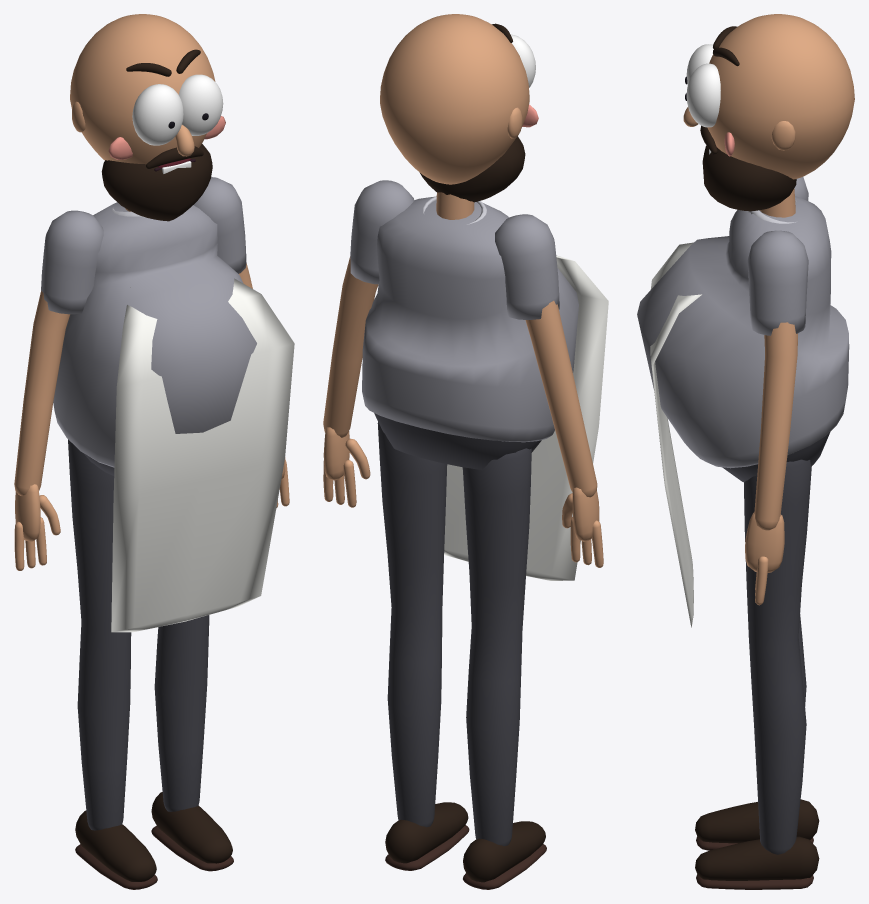
Rendered from momo.glb.
The picture shows the model from 3 angles, left to right: view 1: azimuth 30°, elevation 25°; view 2: azimuth 150°, elevation 25°; view 3: azimuth 270°, elevation 25°; orthographic projection.
Parts seen in each view (by area): view 1: Detail_apron, Torso_top, Leg_0_limb, Head_skull, Leg_1_limb, Arm_0_limb, Arm_0_sleeve, Head_beard, Leg_0_shoe, Leg_1_shoe, Arm_1_sleeve, Eye_0_white (+5 smaller); view 2: Torso_top, Leg_0_limb, Leg_1_limb, Head_skull, Detail_apron, Arm_0_limb, Arm_0_sleeve, Arm_1_limb, Torso_pants, Arm_1_sleeve, Leg_0_shoe, Leg_1_shoe (+9 smaller); view 3: Torso_top, Head_skull, Leg_1_limb, Arm_1_limb, Arm_1_sleeve, Detail_apron, Leg_1_shoe, Head_beard, Leg_0_shoe, Eye_1_white, Arm_1_hand, Leg_1_sole (+5 smaller).
Boxes of the visible parts, x1,y1,x2,y2 form: Detail_apron: (111, 278, 294, 632); Torso_top: (53, 202, 256, 467); Leg_0_limb: (68, 439, 131, 830); Head_skull: (70, 14, 215, 164); Leg_1_limb: (154, 615, 209, 811); Arm_0_limb: (14, 291, 70, 495); Arm_0_sleeve: (41, 210, 103, 314); Head_beard: (101, 144, 212, 221); Leg_0_shoe: (75, 810, 156, 881); Leg_1_shoe: (151, 792, 232, 863); Arm_1_sleeve: (193, 177, 246, 273); Eye_0_white: (132, 84, 183, 145); Torso_top: (362, 196, 578, 442); Leg_0_limb: (462, 448, 531, 846); Leg_1_limb: (377, 422, 447, 827); Head_skull: (380, 14, 529, 184); Detail_apron: (444, 255, 608, 580); Arm_0_limb: (525, 300, 597, 497); Arm_0_sleeve: (495, 214, 559, 319); Arm_1_limb: (323, 256, 378, 437); Torso_pants: (374, 413, 541, 469); Arm_1_sleeve: (350, 180, 414, 284); Leg_0_shoe: (463, 821, 545, 882); Leg_1_shoe: (385, 802, 468, 863); Torso_top: (637, 196, 849, 468); Head_skull: (707, 14, 854, 179); Leg_1_limb: (744, 459, 811, 854); Arm_1_limb: (754, 322, 797, 530); Arm_1_sleeve: (747, 230, 808, 335); Detail_apron: (650, 242, 701, 627); Leg_1_shoe: (695, 836, 819, 880); Head_beard: (702, 145, 796, 211); Leg_0_shoe: (695, 799, 819, 843); Eye_1_white: (686, 63, 720, 127); Arm_1_hand: (745, 512, 784, 572); Leg_1_sole: (696, 874, 813, 889).
Size of the model in its own units: 0.5835 by 1.7 by 0.3971.
